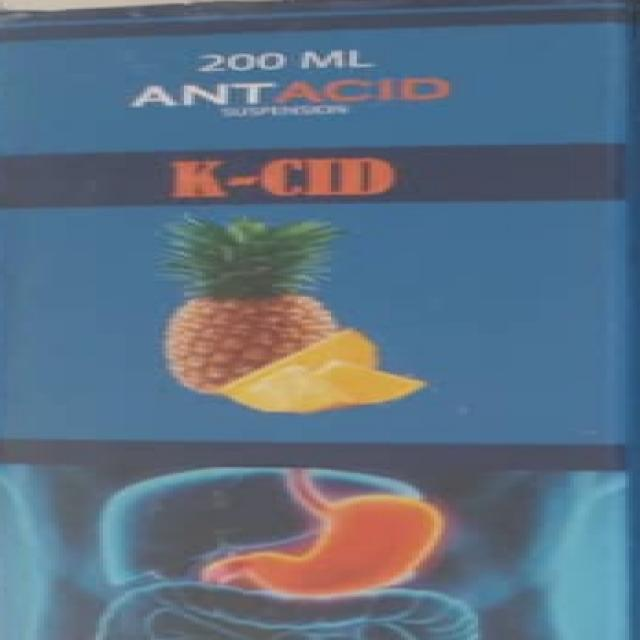drug-name: (164, 153, 400, 200)
